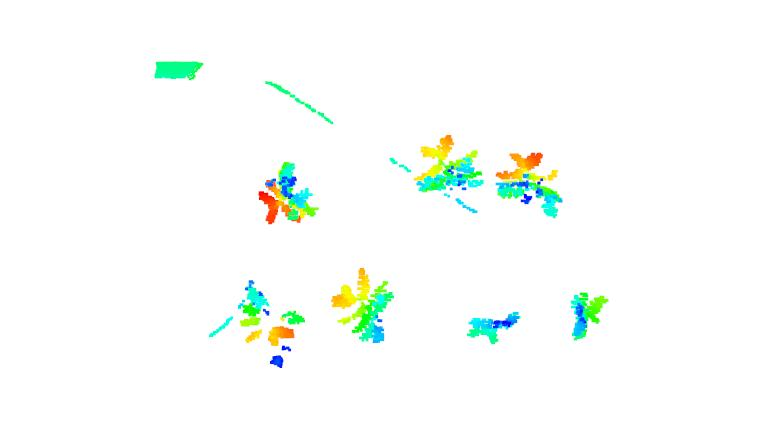chickpea: (331, 267, 396, 346), (493, 150, 564, 218), (254, 160, 318, 226), (414, 133, 486, 191), (239, 284, 306, 346), (570, 290, 613, 344), (463, 311, 527, 346)
